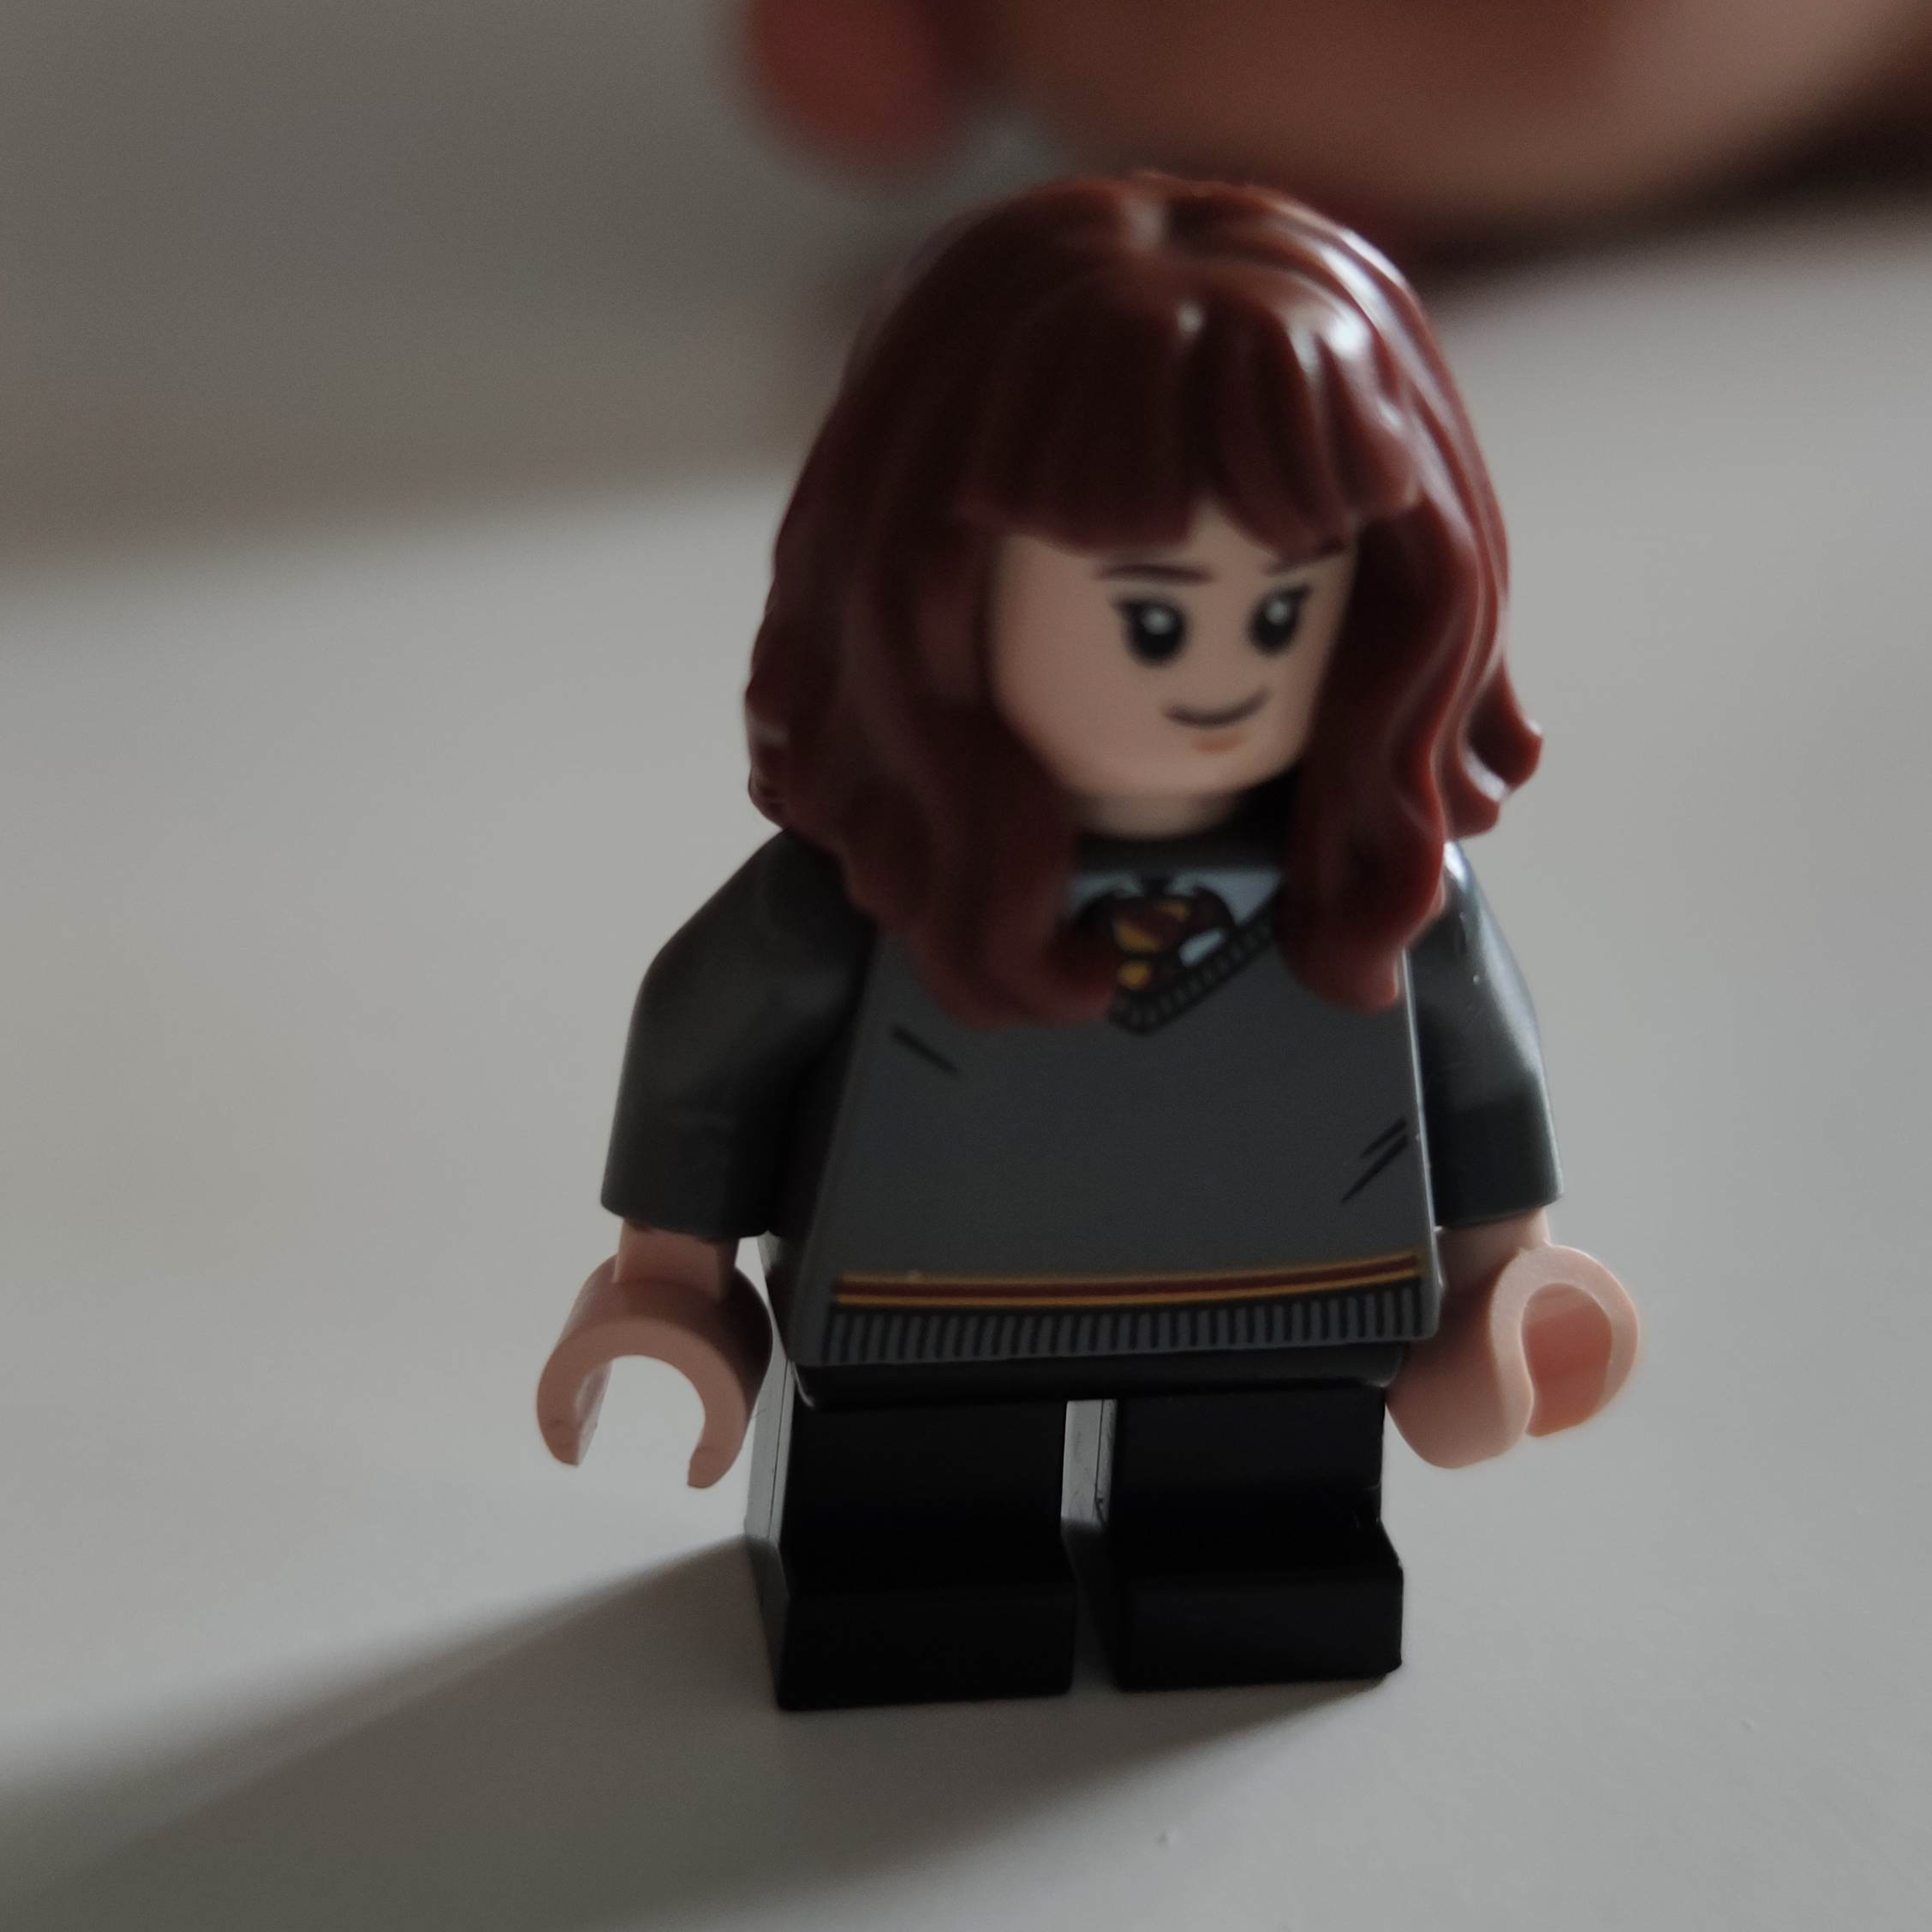lego: (543, 173, 1635, 1727)
